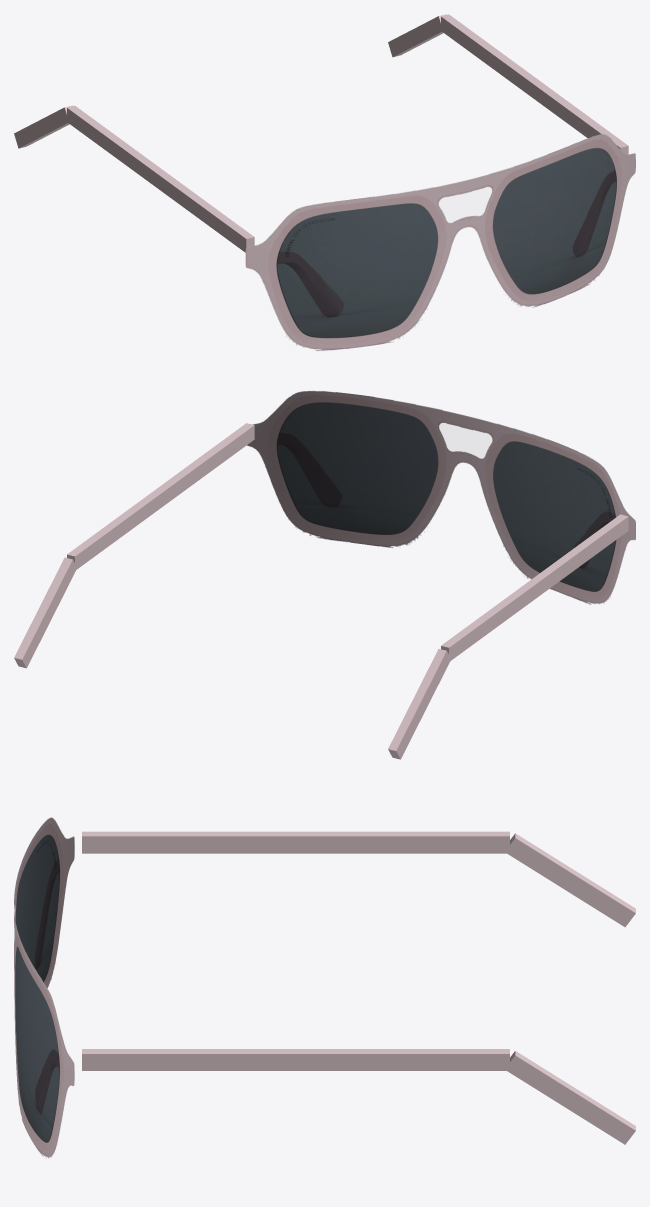
3 views of the same model, one above another, from view 1: azimuth 30°, elevation 25°; view 2: azimuth 150°, elevation 25°; view 3: azimuth 270°, elevation 25° (orthographic). The views are drawn at different scales.
Parts seen in each view (by area): view 1: anteojo; view 2: anteojo; view 3: anteojo.
Part boxes in pixels (x1=…): anteojo: x1=14, y1=14, x2=635, y2=350; anteojo: x1=14, y1=391, x2=635, y2=759; anteojo: x1=14, y1=817, x2=635, y2=1158.
Size of the model in its own units: 0.142 by 0.0518 by 0.1644.
2 materials, 1 textured.
